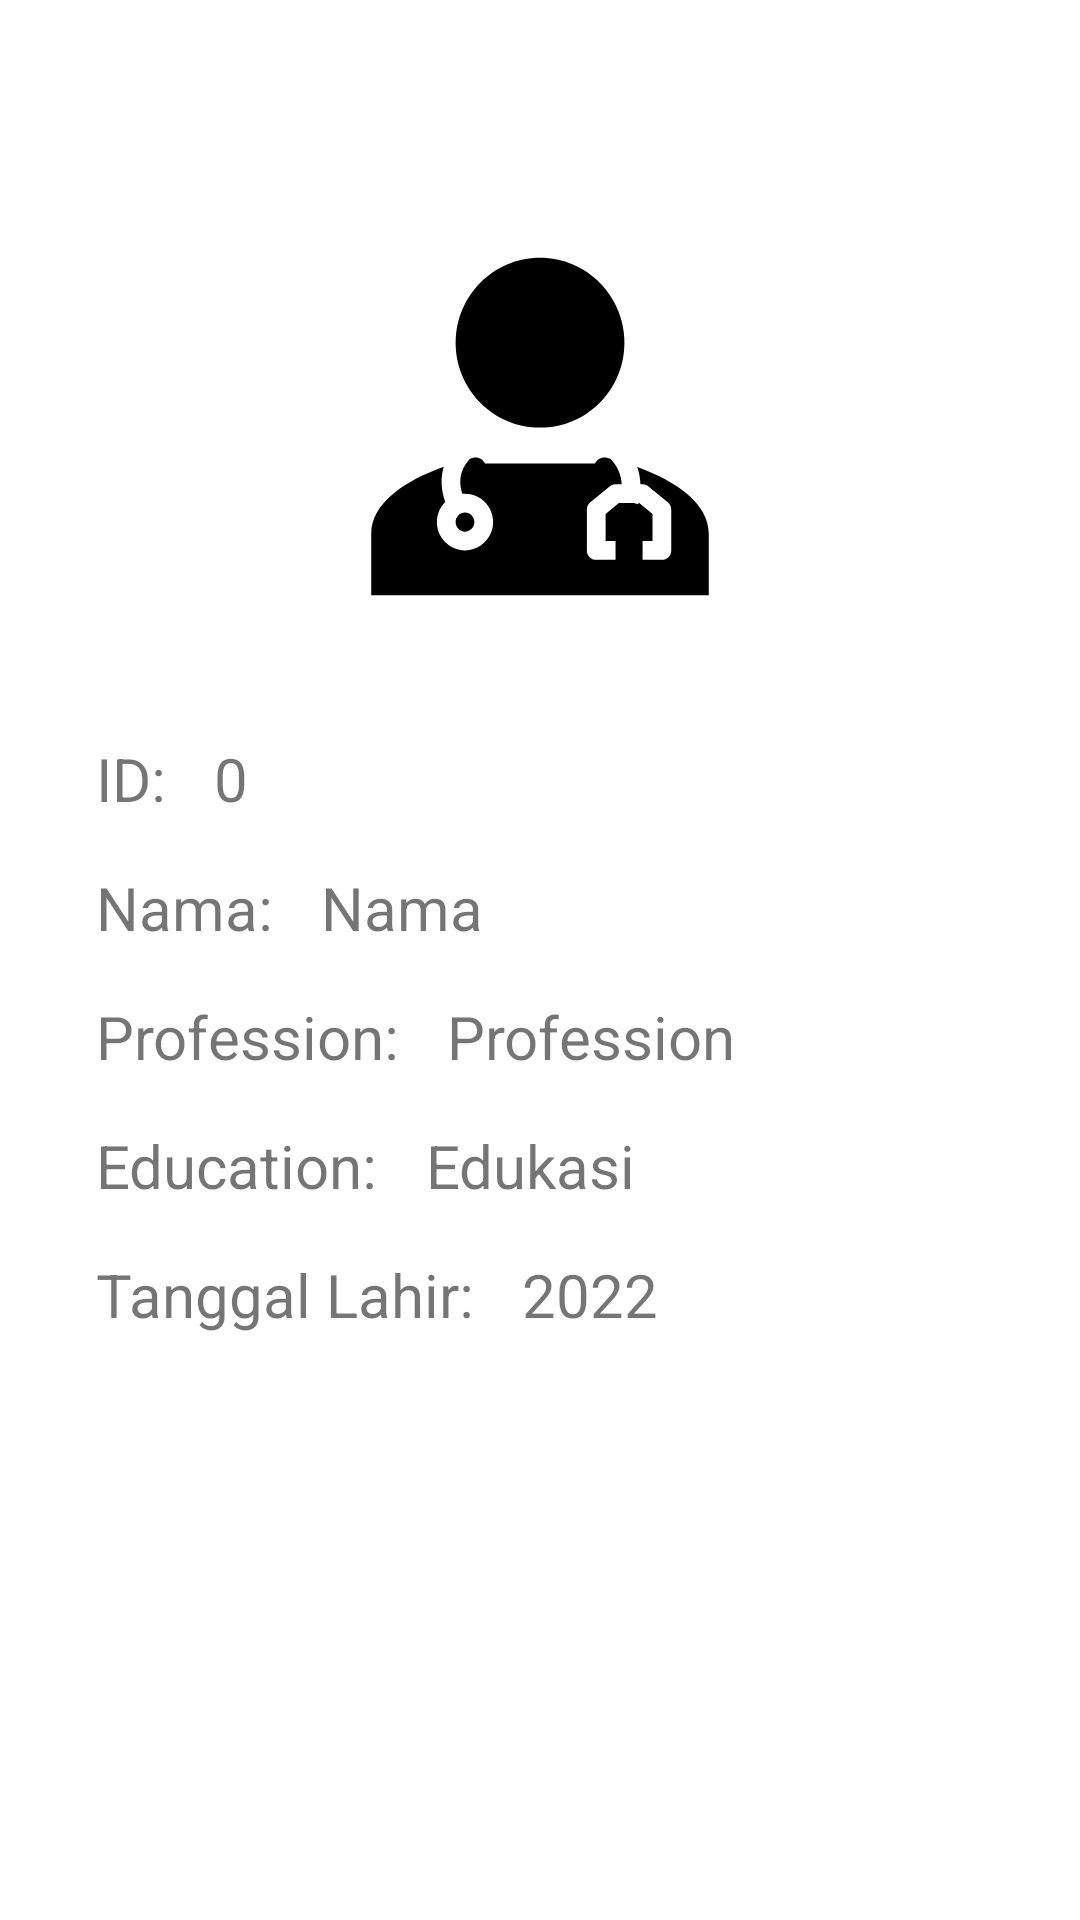

Named icons in this screenshot (1080 x 1920) and their centers, (x,y):
doctor: (540,426)
